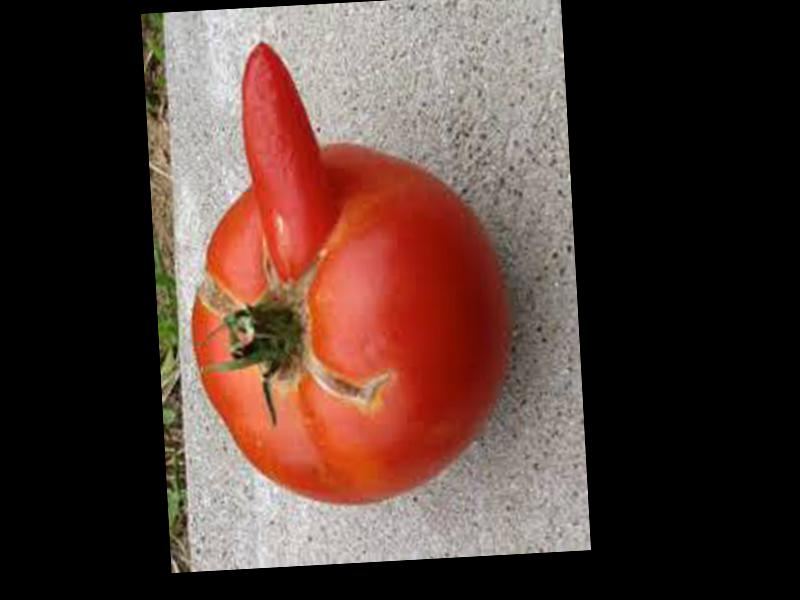Tomato: (181, 135, 509, 516)
